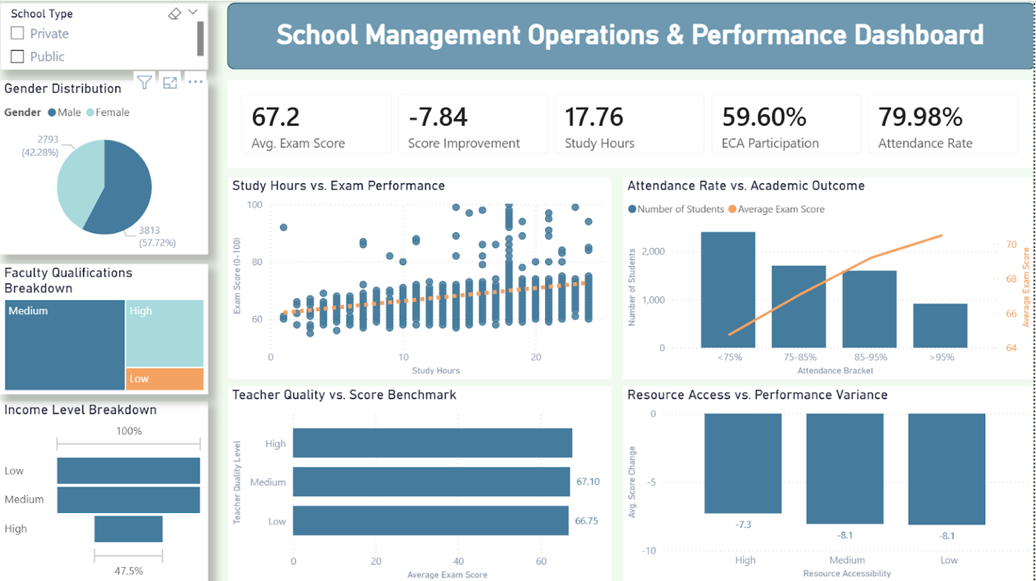

The dashboard page shown, as its layout file describes it:
{"tool":"powerbi","page":{"name":"第 1 页","canvas":[1280,720],"ordinal":0},"visuals":[{"type":"pieChart","title":"Gender Distribution","fields":{"Category":["StudentPerformanceFactors_pycleaned2.Gender"],"Y":["CountNonNull(StudentPerformanceFactors_pycleaned2.Gender)"]},"box":[0,98.6,257.1,215.7],"z":0},{"type":"slicer","fields":{"Values":["StudentPerformanceFactors_pycleaned2.School_Type"]},"box":[0,2.9,257.1,82.9],"z":1000},{"type":"funnel","title":"Income Level Breakdown","fields":{"Category":["StudentPerformanceFactors_pycleaned2.Family_Income"],"Y":["CountNonNull(StudentPerformanceFactors_pycleaned2.Family_Income)"]},"box":[0,495.7,257.1,224.3],"z":2000},{"type":"treemap","title":"Faculty Qualifications Breakdown","fields":{"Group":["StudentPerformanceFactors_pycleaned2.Teacher_Quality"],"Values":["CountNonNull(StudentPerformanceFactors_pycleaned2.Gender)"]},"box":[0,325.7,257.1,161.4],"z":3000},{"type":"shape","box":[281.4,2.9,1001.4,82.9],"z":4000},{"type":"cardVisual","fields":{"Data":["StudentPerformanceFactors_pycleaned2.平均考试成绩","StudentPerformanceFactors_pycleaned2.平均进步","StudentPerformanceFactors_pycleaned2.平均学习时长","StudentPerformanceFactors_pycleaned2.课外活动参与度","StudentPerformanceFactors_pycleaned2.Attendance Rate Display"]},"box":[281.4,98.6,998.6,108.6],"z":5000},{"type":"textbox","box":[281.4,15.7,998.6,60],"z":6000},{"type":"scatterChart","title":"Study Hours vs. Exam Performance","fields":{"X":["StudentPerformanceFactors_pycleaned2.Hours_Studied"],"Y":["StudentPerformanceFactors_pycleaned2.Exam_Score"]},"box":[281.8,218,474.3,249.9],"z":7000},{"type":"lineClusteredColumnComboChart","title":"Attendance Rate vs. Academic Outcome","fields":{"Y":["CountNonNull(StudentPerformanceFactors_pycleaned2.Attendance)"],"Y2":["StudentPerformanceFactors_pycleaned2.平均考试成绩"],"Category":["StudentPerformanceFactors_pycleaned2.Attendance Bracket"]},"box":[771.3,218,508.7,249.9],"z":8000},{"type":"clusteredBarChart","title":"Teacher Quality vs. Score Benchmark","fields":{"Category":["StudentPerformanceFactors_pycleaned2.Teacher_Quality"],"Y":["Avg(StudentPerformanceFactors_pycleaned2.Exam_Score)"]},"box":[281.8,478.1,474.3,243.5],"z":9000},{"type":"clusteredColumnChart","title":"Resource Access vs. Performance Variance","fields":{"Category":["StudentPerformanceFactors_pycleaned2.Access_to_Resources"],"Y":["StudentPerformanceFactors_pycleaned2.平均进步"]},"box":[771.3,478.1,508.7,242.2],"z":9001}]}

Visuals, with their boxes in screenshot pixels (x1, y1, x2, y2), scaled from the page's 1280x720 canvas onto the 1036x581 screenshot:
"Gender Distribution" pieChart: region(0, 80, 208, 254)
slicer - StudentPerformanceFactors_pycleaned2.School_Type: region(0, 2, 208, 69)
"Income Level Breakdown" funnel: region(0, 400, 208, 580)
"Faculty Qualifications Breakdown" treemap: region(0, 263, 208, 393)
shape: region(228, 2, 1035, 69)
cardVisual - StudentPerformanceFactors_pycleaned2.平均考试成绩 x StudentPerformanceFactors_pycleaned2.平均进步: region(228, 80, 1035, 167)
textbox: region(228, 13, 1035, 61)
"Study Hours vs. Exam Performance" scatterChart: region(228, 176, 612, 378)
"Attendance Rate vs. Academic Outcome" lineClusteredColumnComboChart: region(624, 176, 1035, 378)
"Teacher Quality vs. Score Benchmark" clusteredBarChart: region(228, 386, 612, 580)
"Resource Access vs. Performance Variance" clusteredColumnChart: region(624, 386, 1035, 580)
